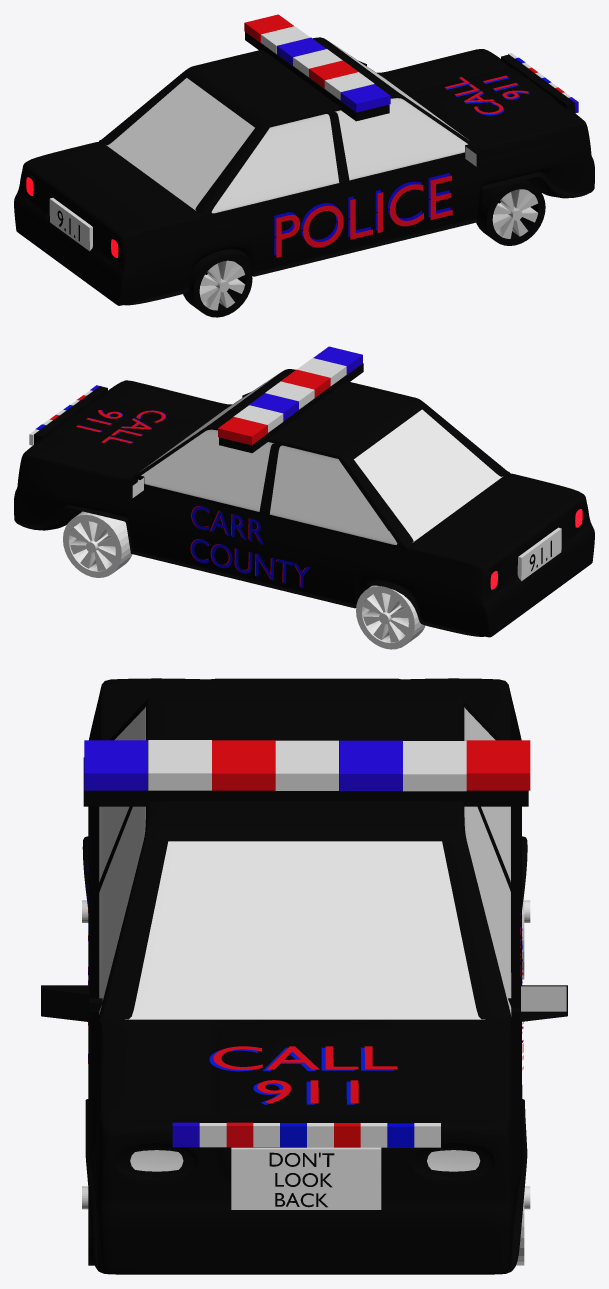
File: copCar.fbx
3 renders of one model, top to bottom at view 1: azimuth 30°, elevation 25°; view 2: azimuth 150°, elevation 25°; view 3: azimuth 270°, elevation 25°, orthographic. The views are drawn at different scales.
Visible parts, largest first — view 1: Car.005, Text.001, Text, Cube, Cube.008, Cube.001, Cube.011, Cube.002, Cube.007, Cube.003, Cube.005, Cube.004 (+3 smaller); view 2: Car.005, Text.006, Cube.008, Cube, Cube.007, Cube.011, Cube.003, Cube.002, Cube.005, Cube.001, Cube.004, Cube.006 (+2 smaller); view 3: Car.005, Cube.009, Cube, Cube.007, Cube.001, Cube.002, Cube.003, Cube.005, Cube.006, Cube.004, Text.007, Cube.011 (+2 smaller).
Boxes of the visible parts, box(x1,y1,x2,y2) form: Car.005: box(14, 37, 594, 317); Text.001: box(276, 175, 452, 257); Text: box(274, 173, 450, 255); Cube: box(245, 32, 389, 121); Cube.008: box(49, 198, 92, 251); Cube.001: box(340, 84, 390, 112); Cube.011: box(501, 54, 575, 112); Cube.002: box(324, 72, 374, 100); Cube.007: box(244, 14, 293, 42); Cube.003: box(309, 60, 358, 88); Cube.005: box(277, 37, 326, 65); Cube.004: box(293, 49, 342, 76); Car.005: box(14, 369, 594, 649); Text.006: box(191, 506, 310, 587); Cube.008: box(517, 527, 561, 581); Cube: box(219, 363, 363, 453); Cube.007: box(218, 417, 267, 445); Cube.011: box(34, 386, 107, 444); Cube.003: box(281, 369, 330, 397); Cube.002: box(297, 358, 346, 385); Cube.005: box(249, 393, 298, 421); Cube.001: box(313, 346, 362, 374); Cube.004: box(265, 381, 314, 409); Cube.006: box(233, 405, 283, 432); Car.005: box(41, 678, 567, 1274); Cube.009: box(231, 1147, 381, 1209); Cube: box(83, 757, 528, 806); Cube.007: box(466, 740, 530, 790); Cube.001: box(84, 740, 147, 790); Cube.002: box(148, 740, 211, 790); Cube.003: box(212, 740, 275, 790); Cube.005: box(339, 740, 402, 790); Cube.006: box(403, 741, 466, 791); Cube.004: box(275, 740, 338, 790); Text.007: box(213, 1046, 397, 1103); Cube.011: box(172, 1115, 436, 1123).
Bounding box in the file's own units: 1382 × 500 × 658.
